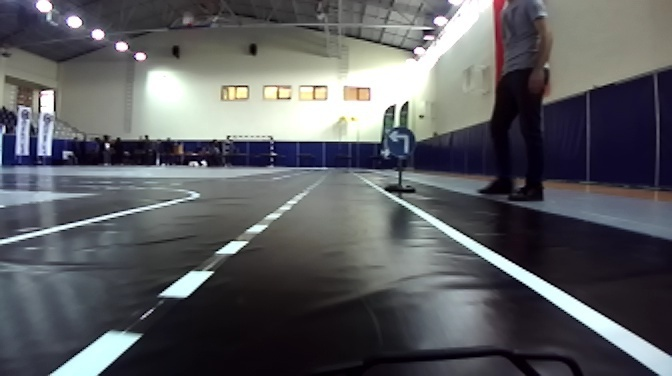sola_donus: (385, 128, 416, 155)
